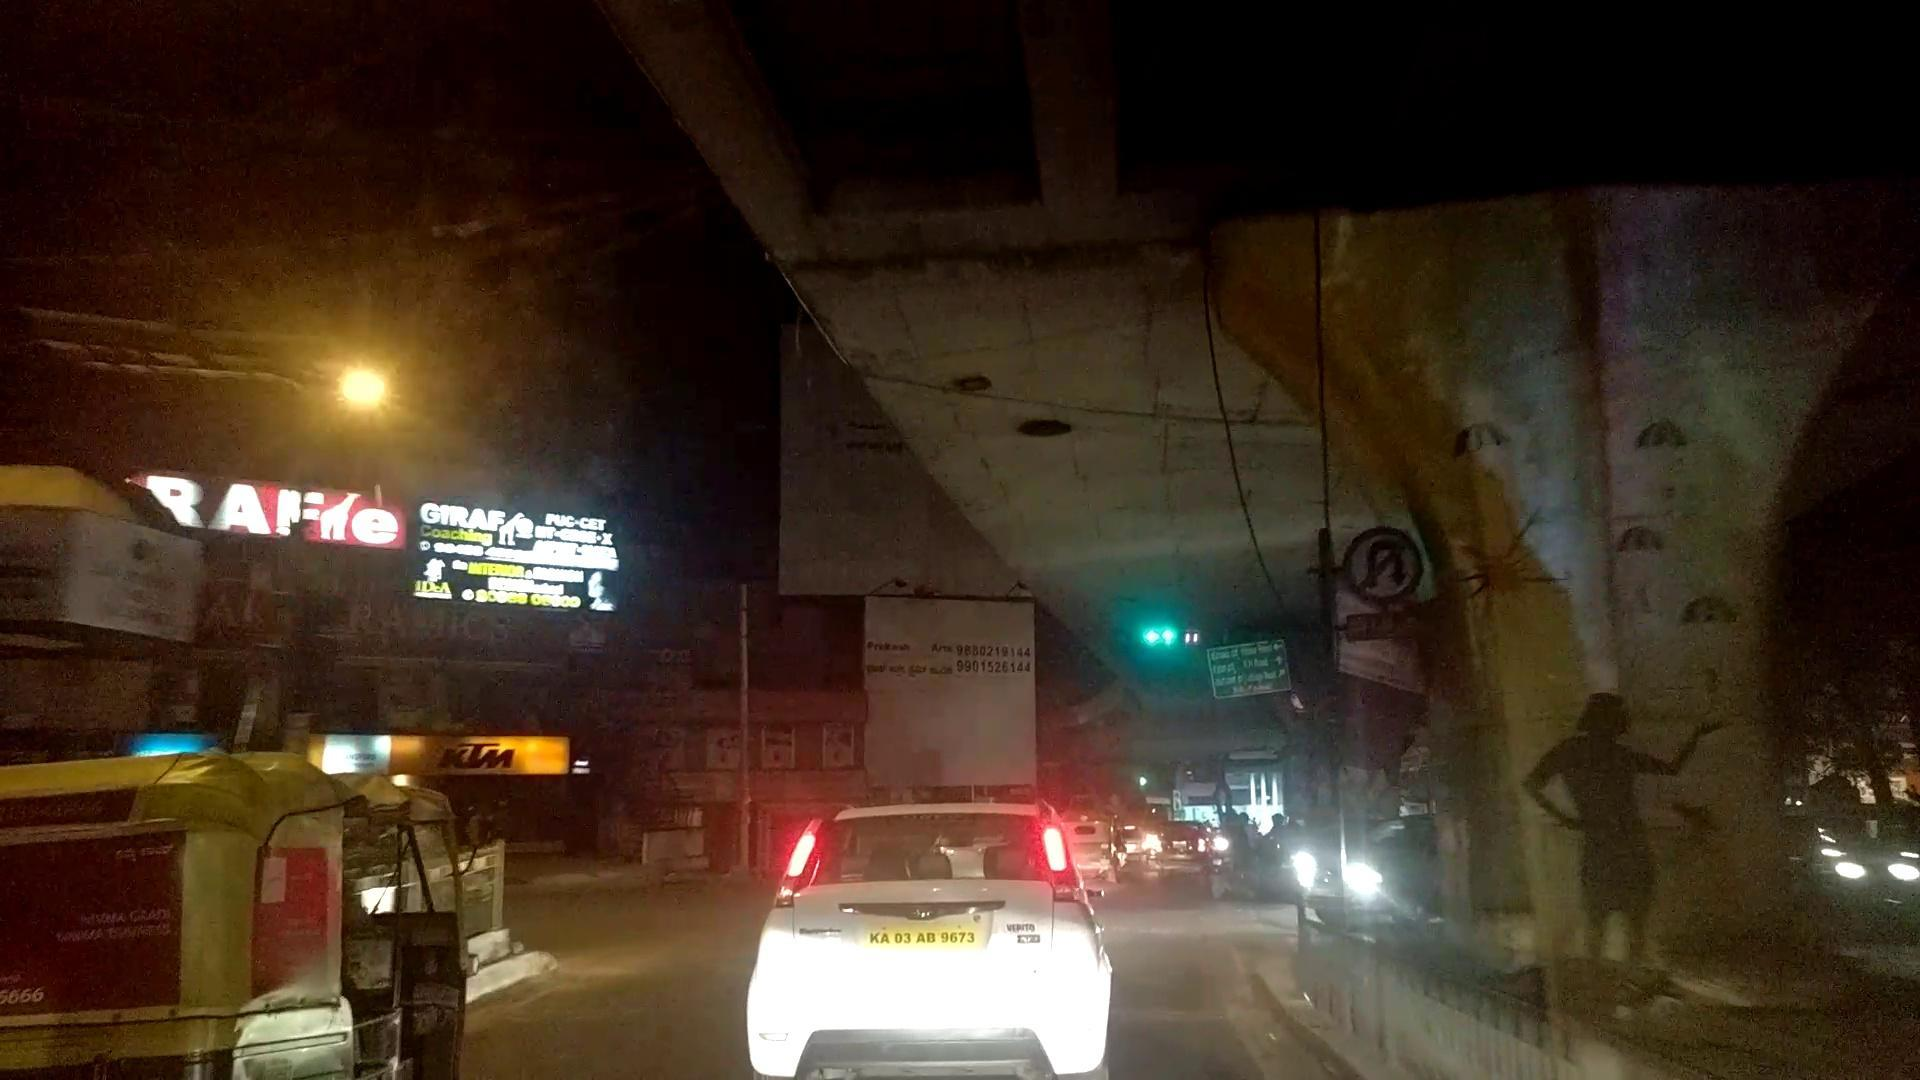on: (260, 212, 640, 506)
